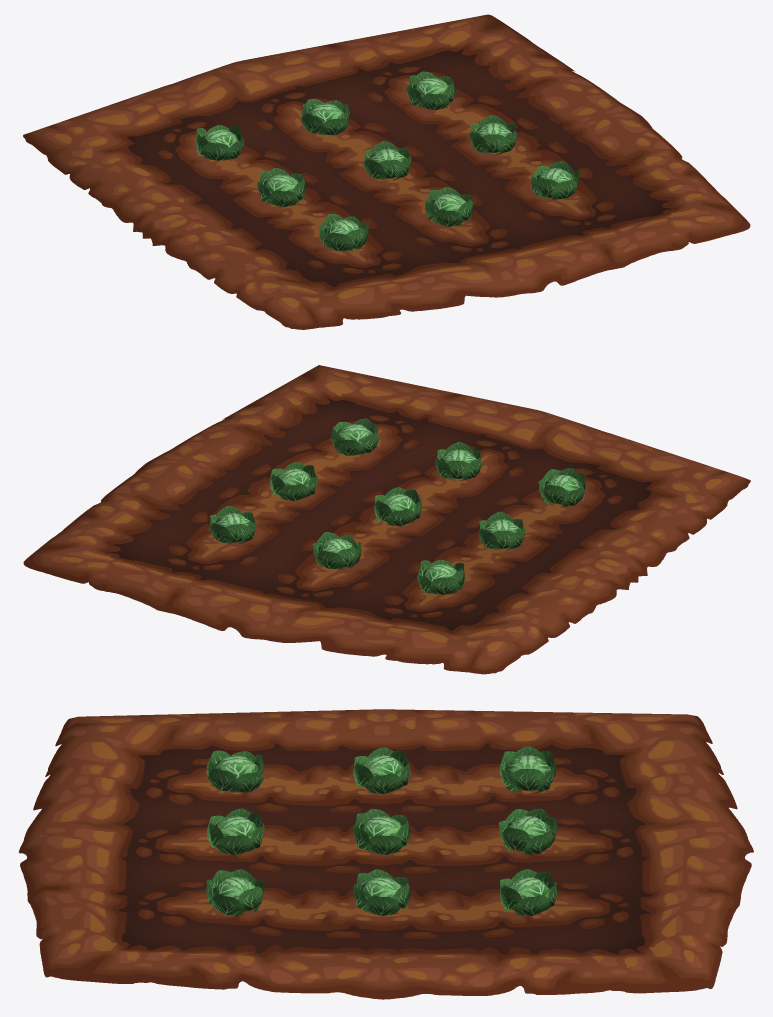
File: Cabbage_Field_Green_Lv1.FBX
3 views of the same model, one above another, from view 1: azimuth 30°, elevation 25°; view 2: azimuth 150°, elevation 25°; view 3: azimuth 270°, elevation 25° (orthographic). The views are drawn at different scales.
Parts seen in each view (by area): view 1: Cabbage_Field_Green_Lv1; view 2: Cabbage_Field_Green_Lv1; view 3: Cabbage_Field_Green_Lv1.
Boxes of the visible parts, x1=… form: Cabbage_Field_Green_Lv1: x1=23, y1=14, x2=750, y2=329; Cabbage_Field_Green_Lv1: x1=23, y1=365, x2=750, y2=674; Cabbage_Field_Green_Lv1: x1=18, y1=709, x2=753, y2=999.
Bounding box in the file's own units: 274 × 16.71 × 296.
